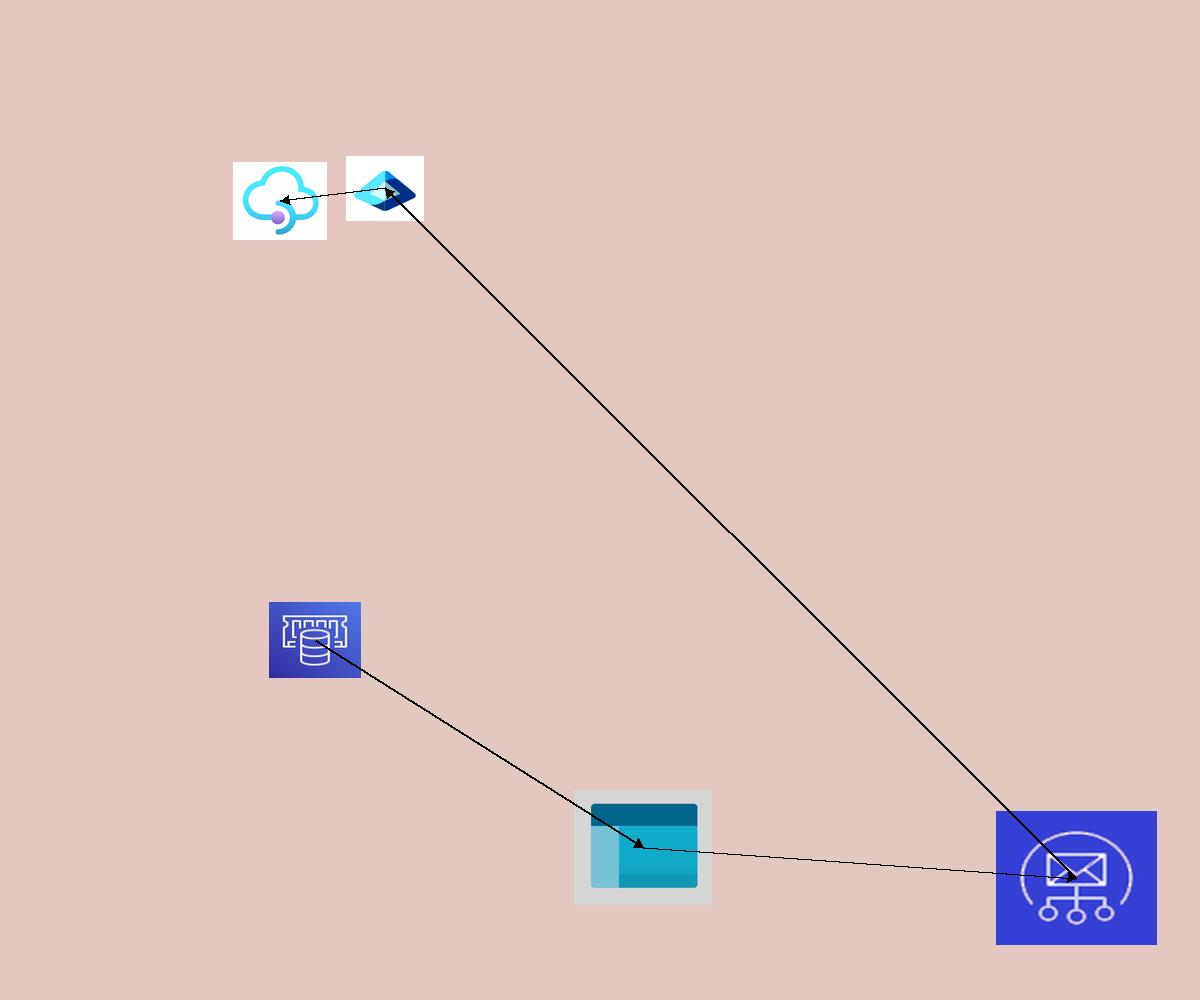AWS-ElastiCache: (269, 602, 361, 678)
AWS-Simple-Email-Service: (996, 811, 1157, 945)
Azure_api_gateway: (233, 162, 327, 240)
Azure_management-portal: (574, 790, 712, 905)
Azure_microsoft_entra: (346, 156, 424, 221)
